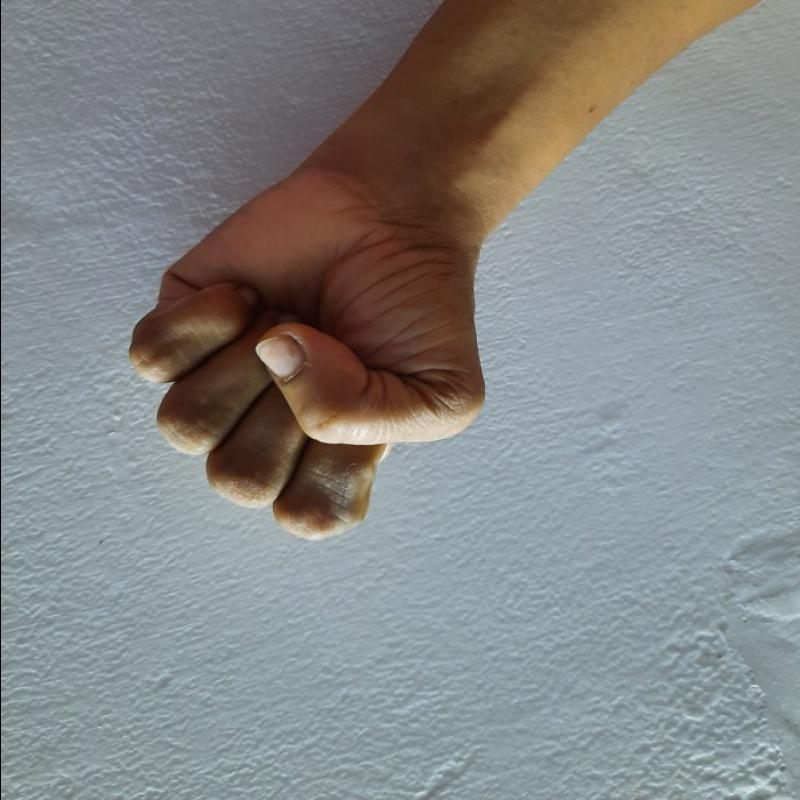Mushti: (111, 157, 507, 555)
